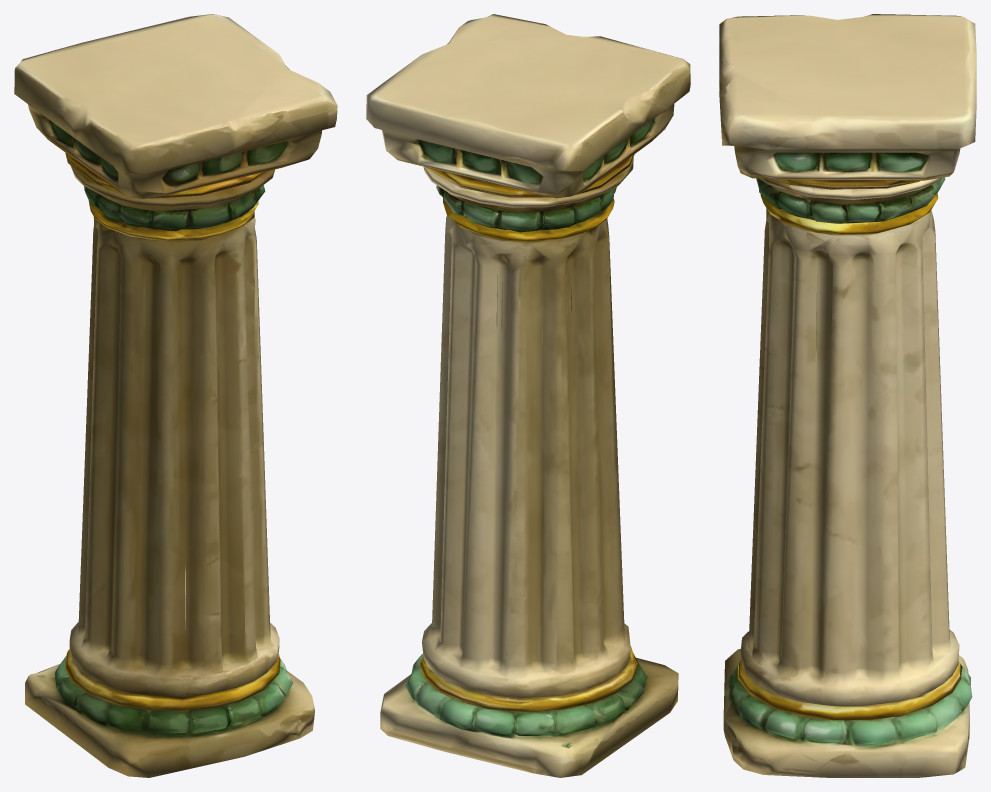
File: TempleColumn.fbx
The picture shows the model from 3 angles, left to right: view 1: azimuth 30°, elevation 25°; view 2: azimuth 150°, elevation 25°; view 3: azimuth 270°, elevation 25°; orthographic projection. The views are drawn at different scales.
Parts seen in each view (by area): view 1: tripo_node_70269c6a; view 2: tripo_node_70269c6a; view 3: tripo_node_70269c6a.
Boxes of the visible parts, bbox=[...] form: tripo_node_70269c6a: bbox=[14, 14, 337, 777]; tripo_node_70269c6a: bbox=[366, 14, 690, 777]; tripo_node_70269c6a: bbox=[719, 14, 976, 777].
Bounding box in the file's own units: 0.3535 × 0.998 × 0.3535.
Materials: 1 (1 with a texture image).
